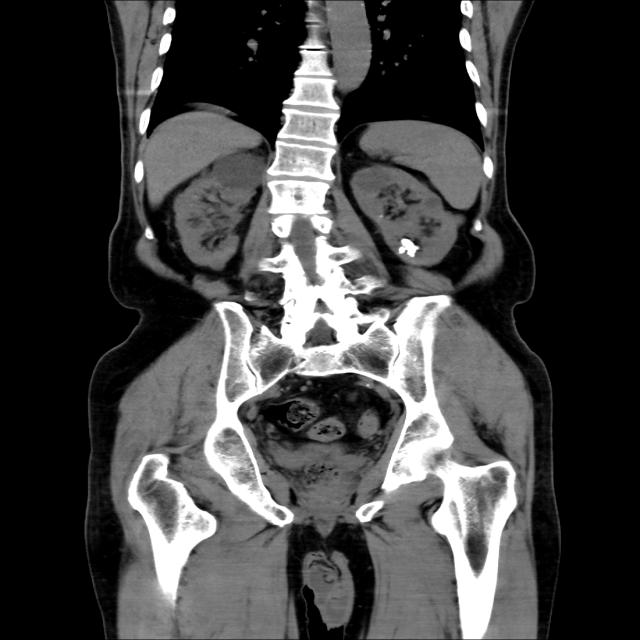kidneystone: (398, 238, 421, 258)
